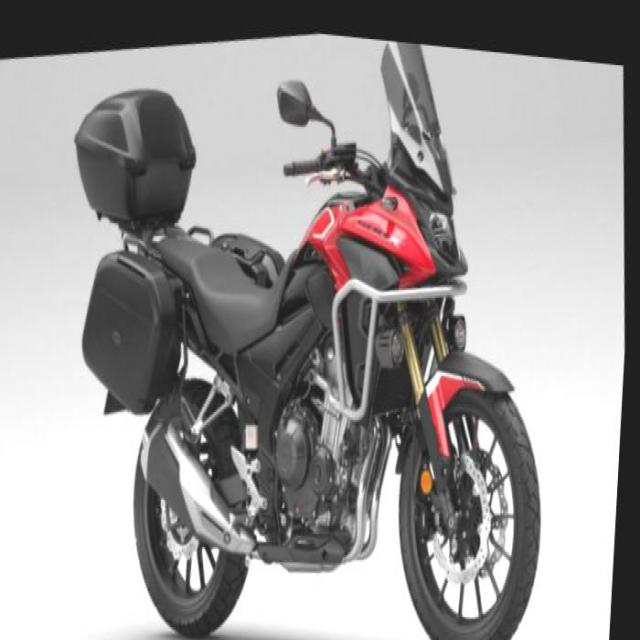CB500X: (109, 10, 576, 638)
